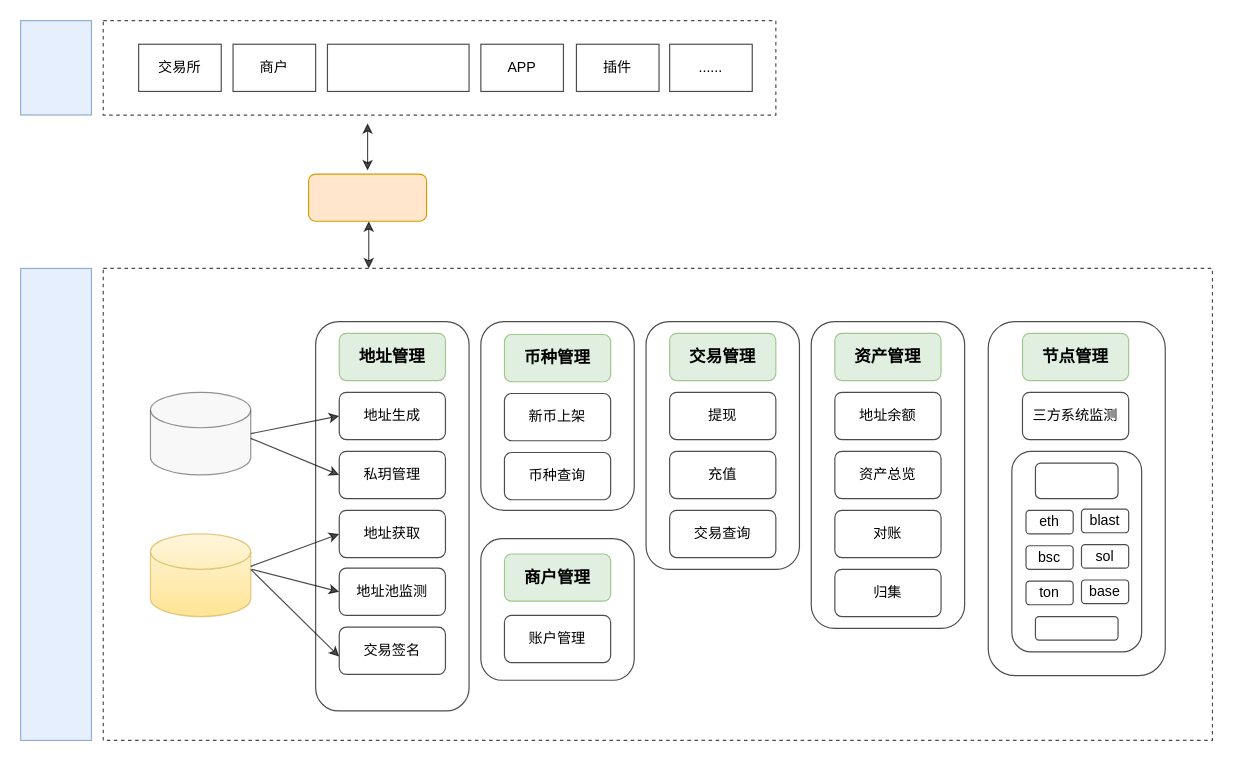
The diagram is 1233 pixels wide and 761 high, and some of its shapes have lost their labels. Each missing label, with the centre of its shape:
"API" belongs at point (367, 197).
"polygon" belongs at point (1076, 627).
"地址在线服务器" belongs at point (200, 575).
"地址隔离离线服务器" belongs at point (200, 433).
"多链管理" belongs at point (1076, 480).
"客 户 端" belongs at point (55, 67).
"服 务 端" belongs at point (55, 503).
"钱包后台管理系统" belongs at point (397, 67).
